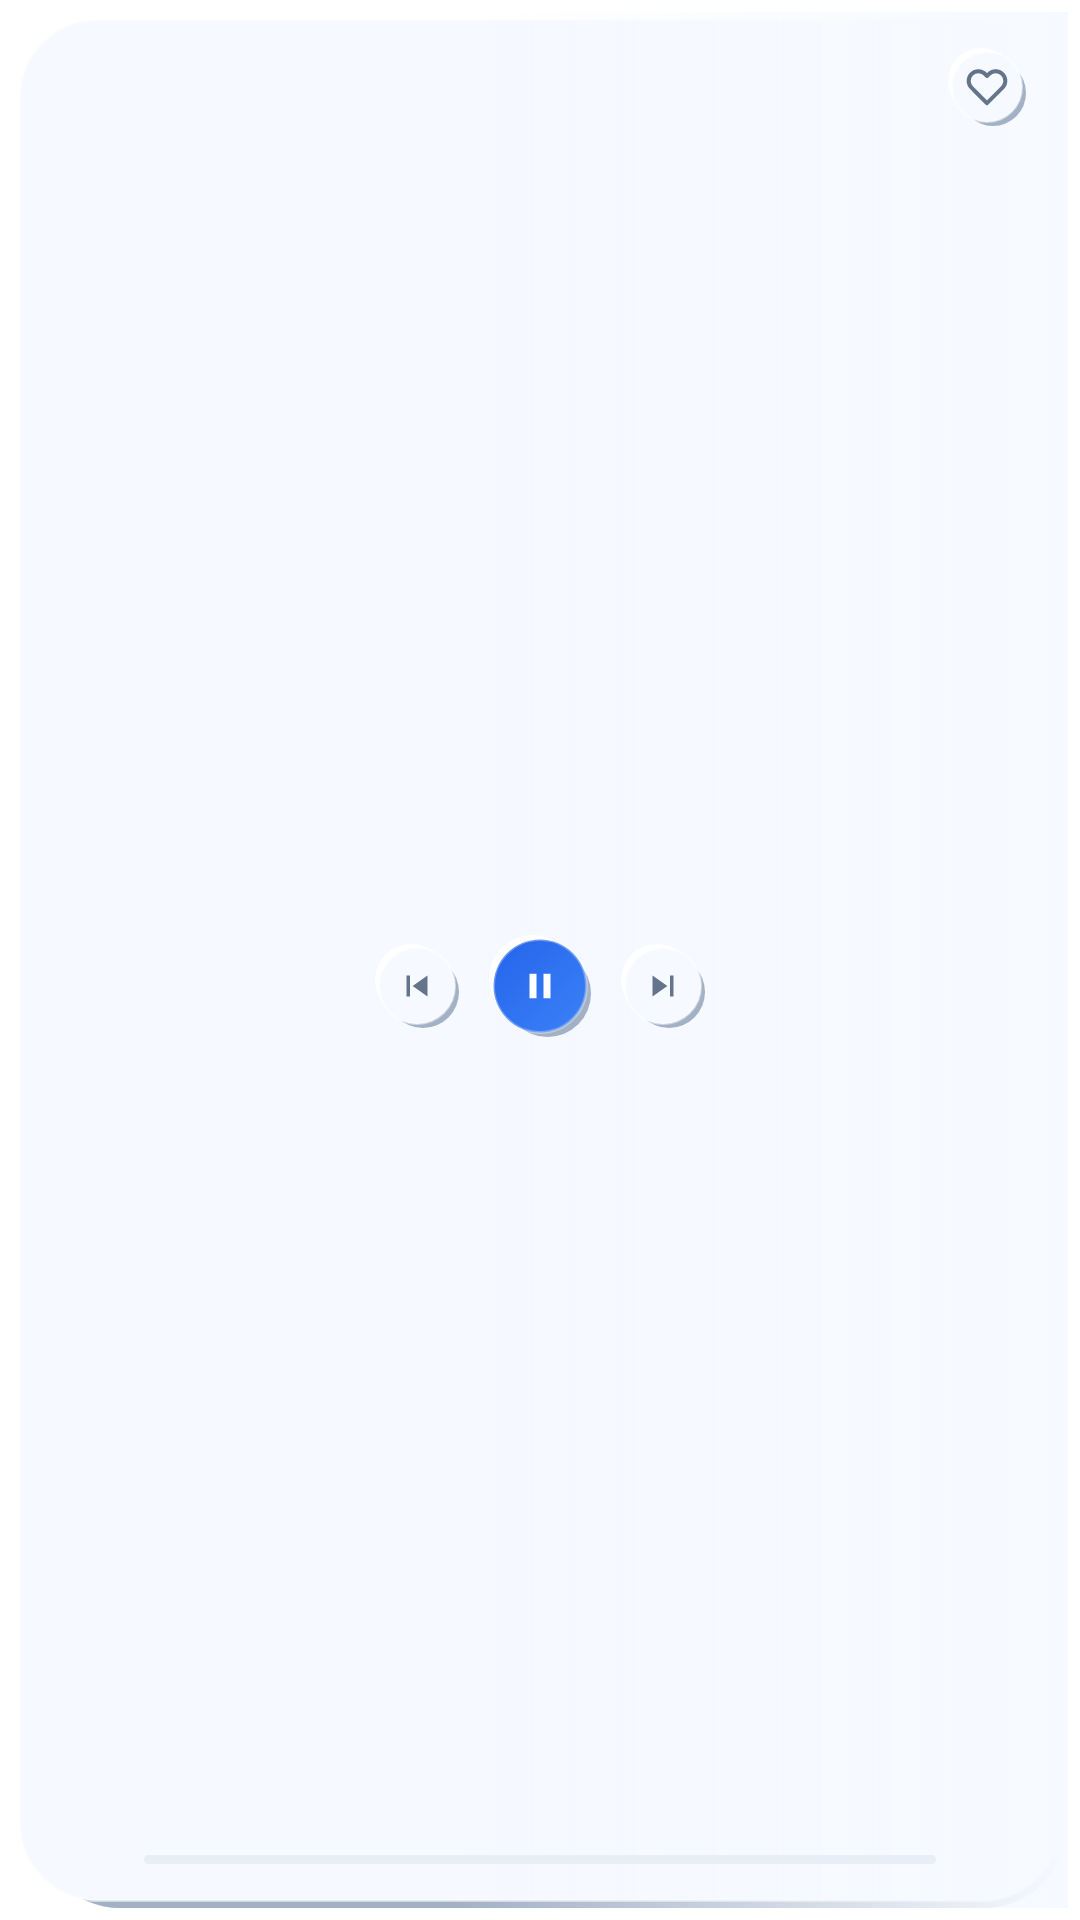

Icon bounding boxes for this 1080x1920 phone screenshot, format region(x1, y1, x2, y2):
Like: region(966, 69, 1026, 126)
Next track: region(650, 973, 705, 1028)
Play/Pause: region(493, 939, 591, 1037)
Previous track: region(403, 973, 459, 1028)
